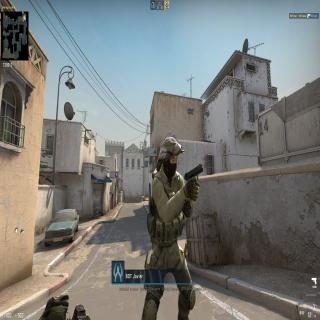CT-Head: (156, 134, 185, 184)
